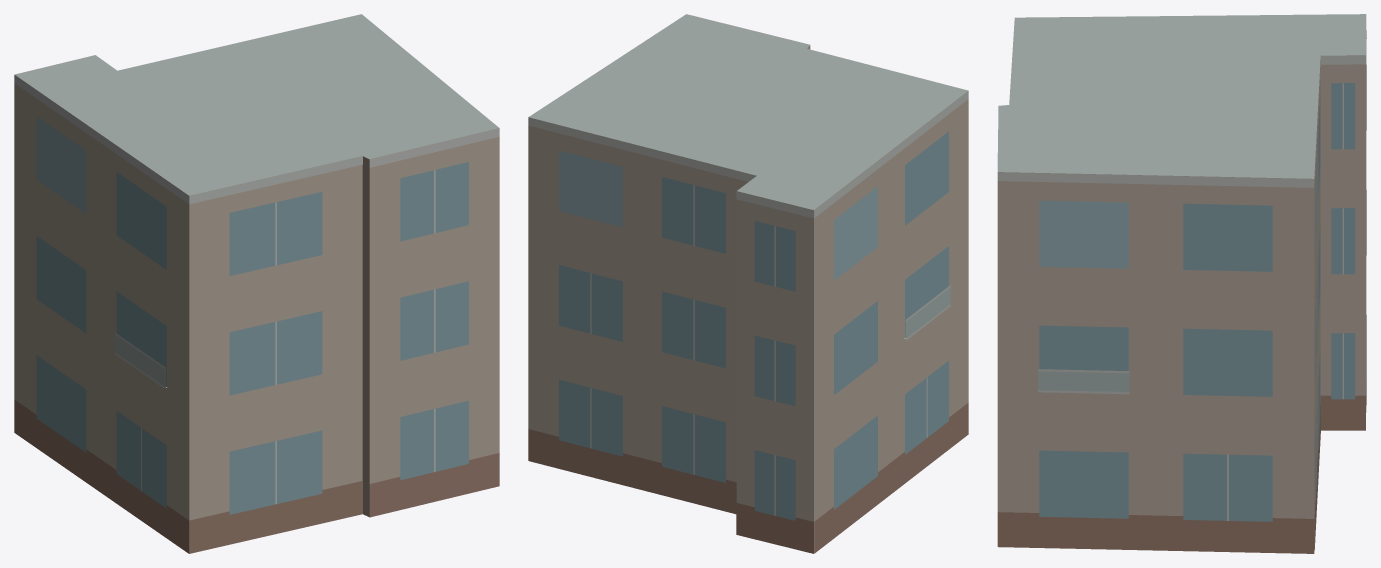
Rendered from survey-upis-32564542.glb.
3 renders of one model, left to right at view 1: azimuth 30°, elevation 25°; view 2: azimuth 150°, elevation 25°; view 3: azimuth 270°, elevation 25°, orthographic. The views are drawn at different scales.
Parts seen in each view (by area): view 1: survey-upis-32564542.tmp; view 2: survey-upis-32564542.tmp; view 3: survey-upis-32564542.tmp.
Part boxes in pixels (<box>): survey-upis-32564542.tmp: <box>14,14,499,553</box>; survey-upis-32564542.tmp: <box>528,14,968,553</box>; survey-upis-32564542.tmp: <box>997,14,1366,553</box>.
Bounding box in the file's own units: 9.53 × 10.1 × 9.02.
